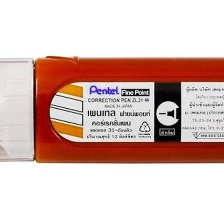correction_fluid: (0, 54, 224, 164)
